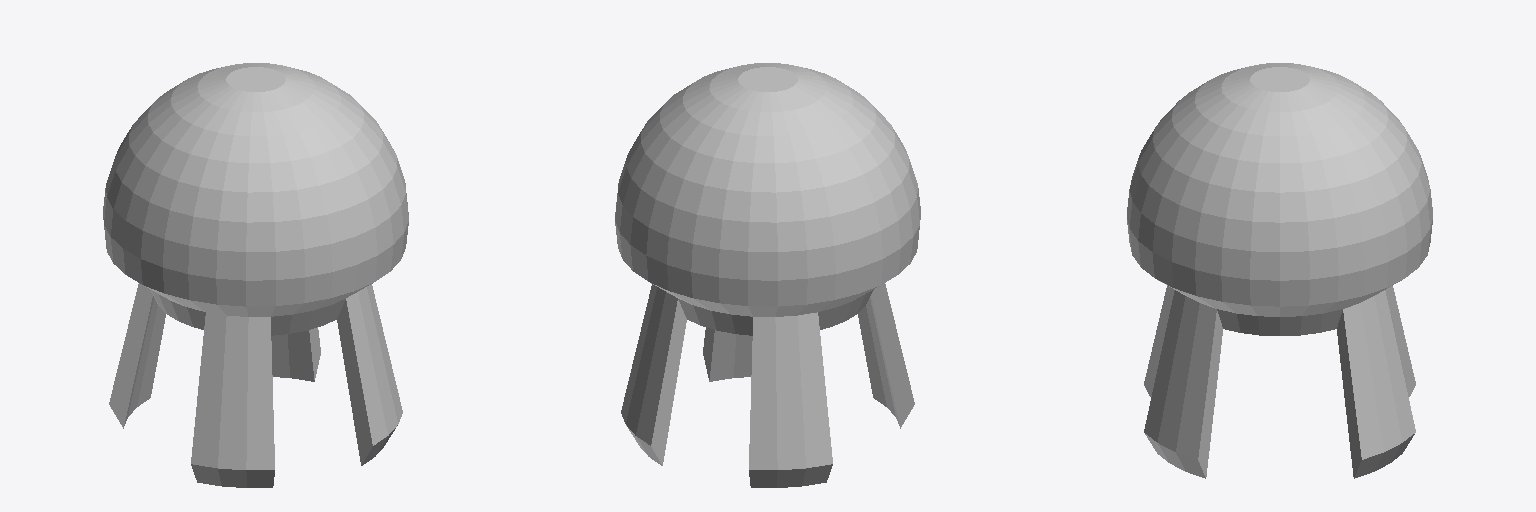
The model's file is player.obj.
3 views of the same model, side by side, from view 1: azimuth 30°, elevation 25°; view 2: azimuth 150°, elevation 25°; view 3: azimuth 270°, elevation 25° (orthographic).
Visible parts, largest first — view 1: 球; view 2: 球; view 3: 球.
Boxes of the visible parts, <box> form: 球: <box>103,63,408,487</box>; 球: <box>615,63,920,487</box>; 球: <box>1127,63,1432,478</box>.
Bounding box in the file's own units: 2 × 2.54 × 2.